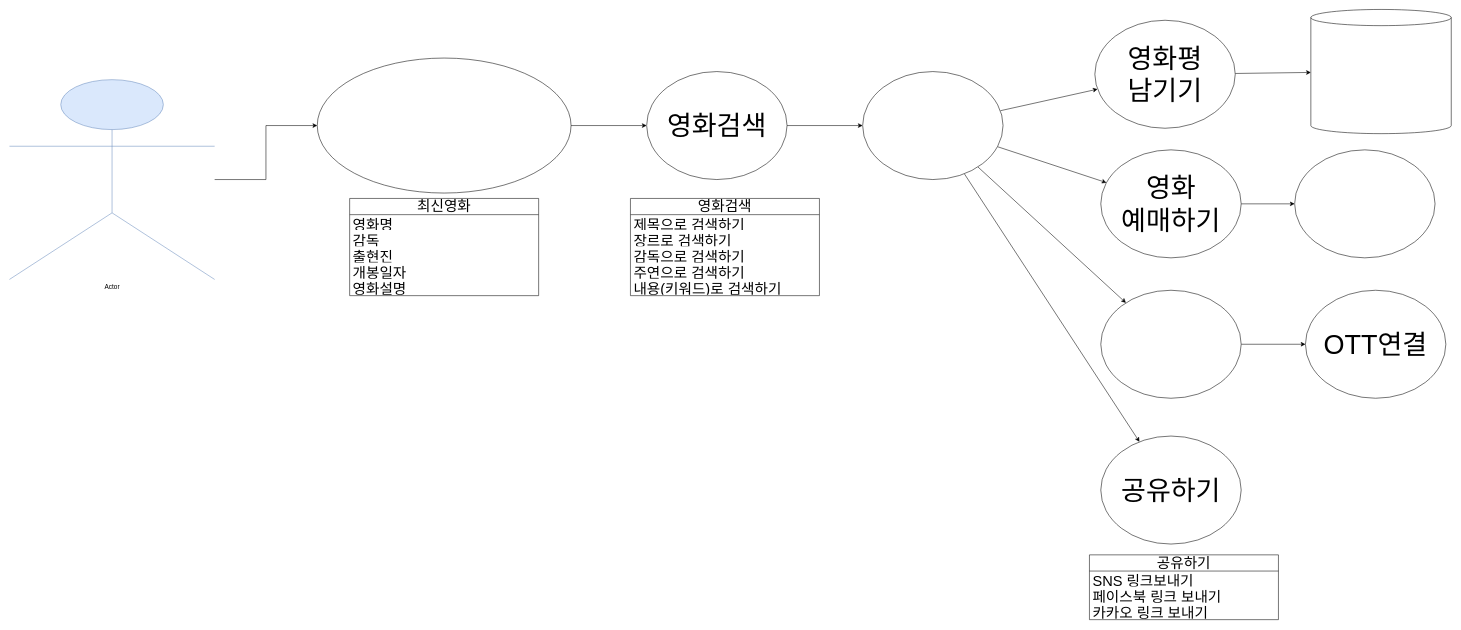
Image size: 1461x630. Some labels were removed from this diagram. The centre of each missing label's shape, as x and y in pixels:
OTT링크 바로가기: (x=1170, y=344)
시작화면: (x=444, y=125)
자세히보기: (x=932, y=125)
제휴영화관링크: (x=1364, y=203)
